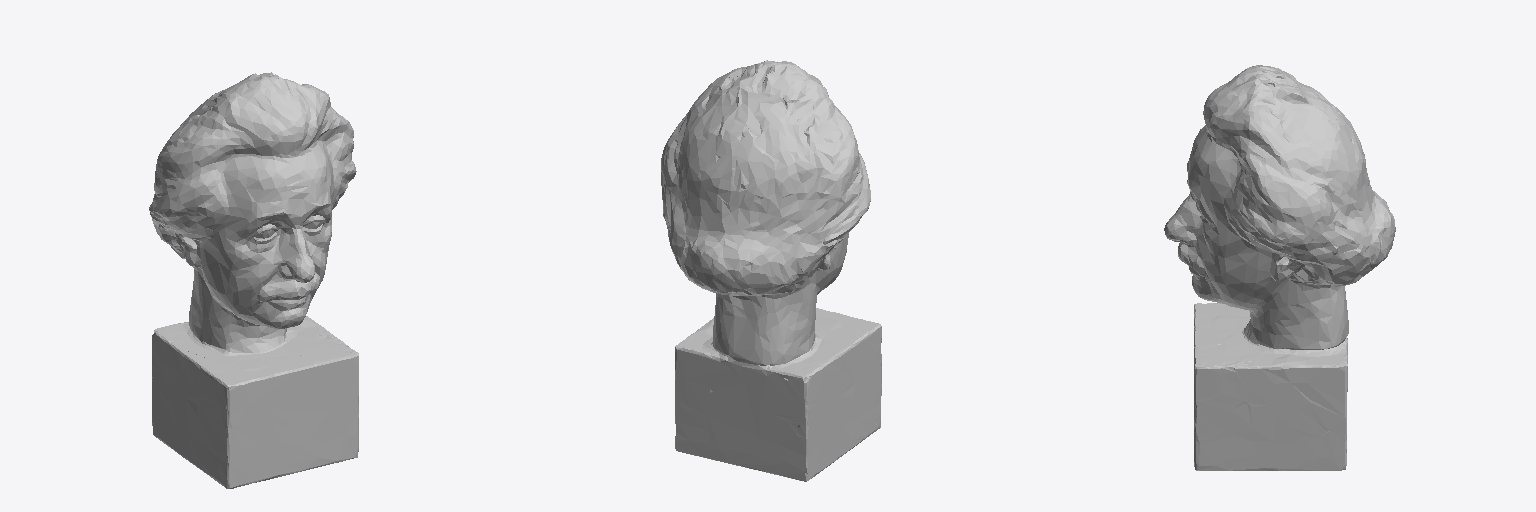
3 views of the same model, side by side, from view 1: azimuth 30°, elevation 25°; view 2: azimuth 150°, elevation 25°; view 3: azimuth 270°, elevation 25° (orthographic).
Parts seen in each view (by area): view 1: stat3.001; view 2: stat3.001; view 3: stat3.001.
Part boxes in pixels (x1,y1,x2,y2): stat3.001: (149,72,358,488); stat3.001: (661,60,881,481); stat3.001: (1164,65,1395,470).
Size of the model in its own units: 5.46 by 9.97 by 5.63.